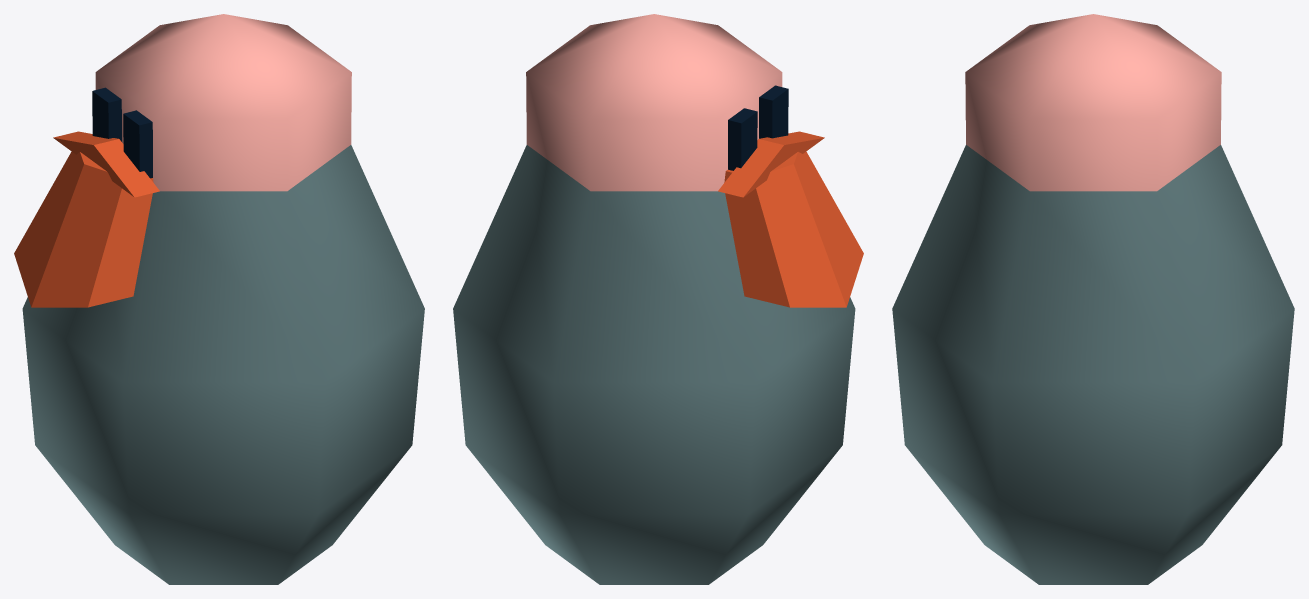
The model's file is SK_Character.fbx.
3 views of the same model, side by side, from view 1: azimuth 30°, elevation 25°; view 2: azimuth 150°, elevation 25°; view 3: azimuth 270°, elevation 25° (orthographic).
Visible parts, largest first — view 1: SK_Character; view 2: SK_Character; view 3: SK_Character.
Boxes of the visible parts, x1,y1,x2,y2 form: SK_Character: (14,14,424,584); SK_Character: (453,14,863,584); SK_Character: (892,14,1294,584).
Size of the model in its own units: 70.4 by 111 by 71.46.
